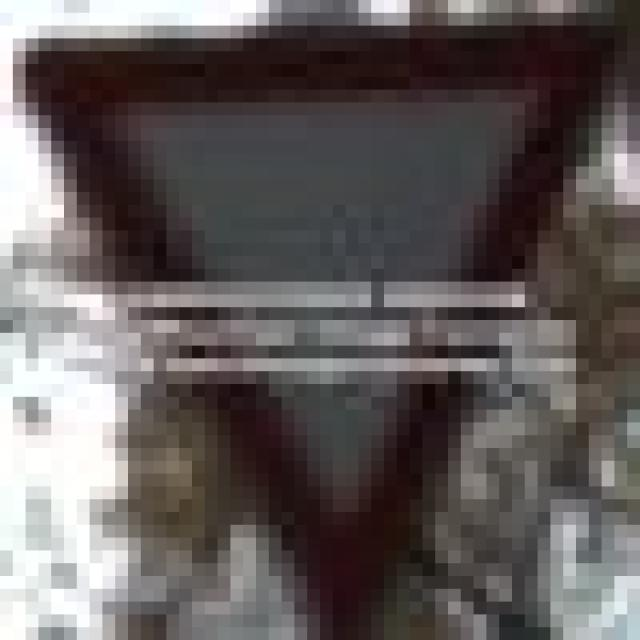gap_in_median: (0, 26, 627, 627)
